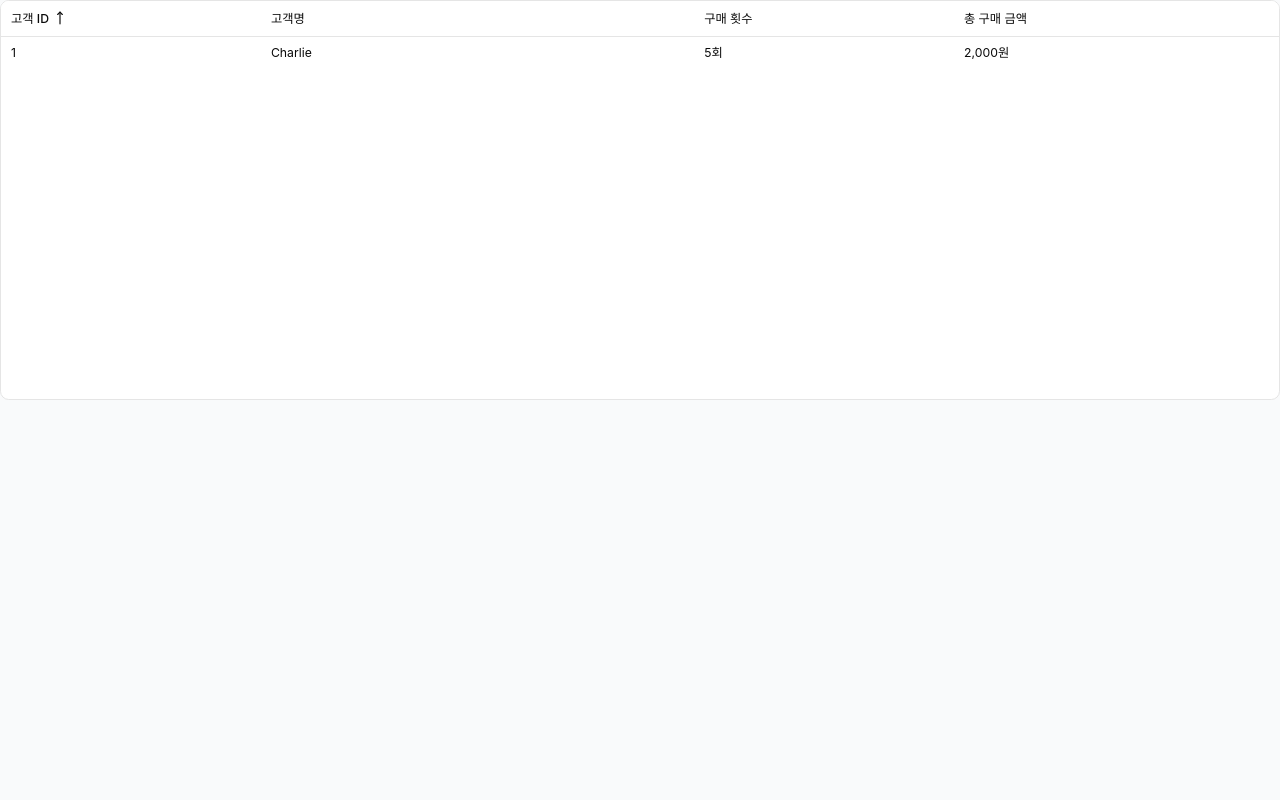
Test: 고객 상세 모달 › 행 클릭 시 다이얼로그가 열린다
# 첫 행의 첫 셀 클릭
Click the cell "1" at (13, 52), box [1,36,261,68]
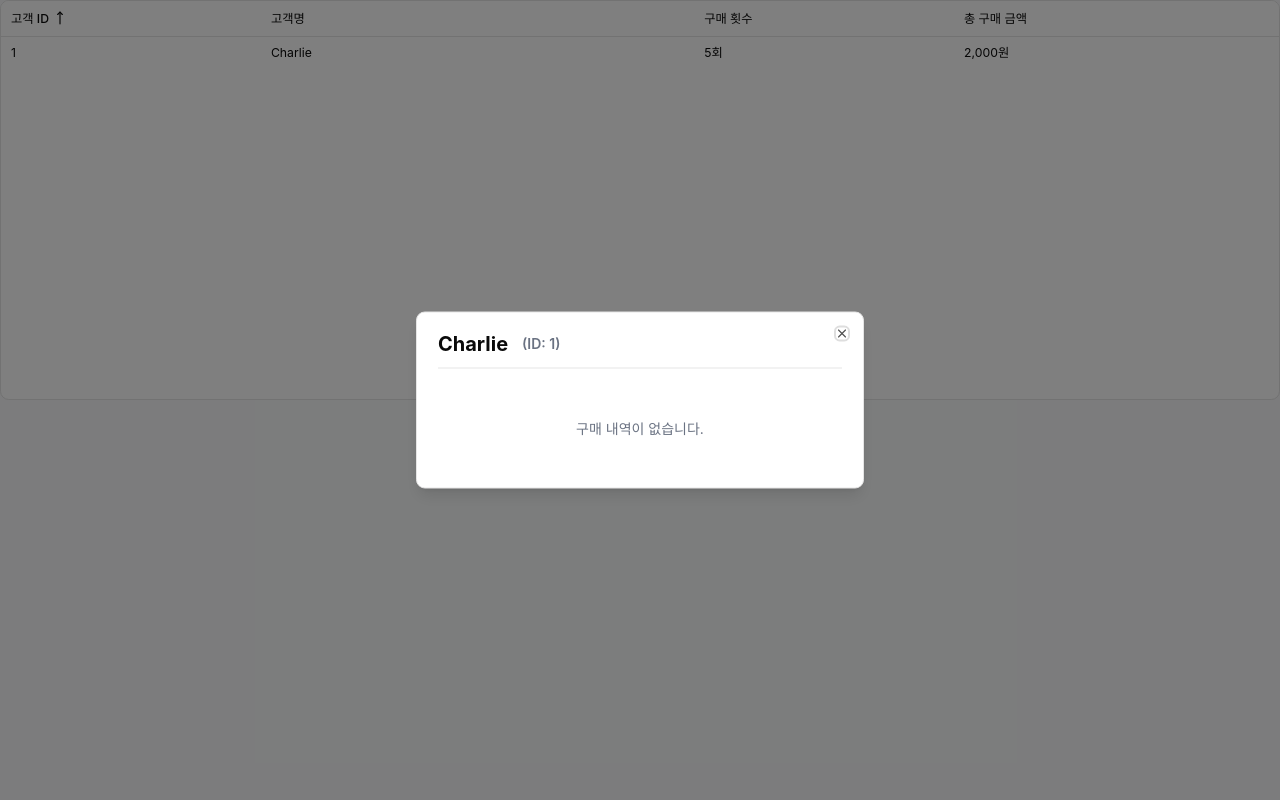
Check: the dialog is shown, box [416,312,864,488]
Check: the text "Charlie" is shown, box [438,334,508,354]
